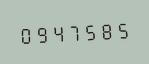eight: (97, 18, 112, 41)
five: (113, 17, 128, 41), (81, 19, 96, 42)
four: (49, 21, 64, 44)
nine: (33, 22, 48, 45)
seven: (65, 20, 80, 43)
zero: (17, 22, 32, 46)
